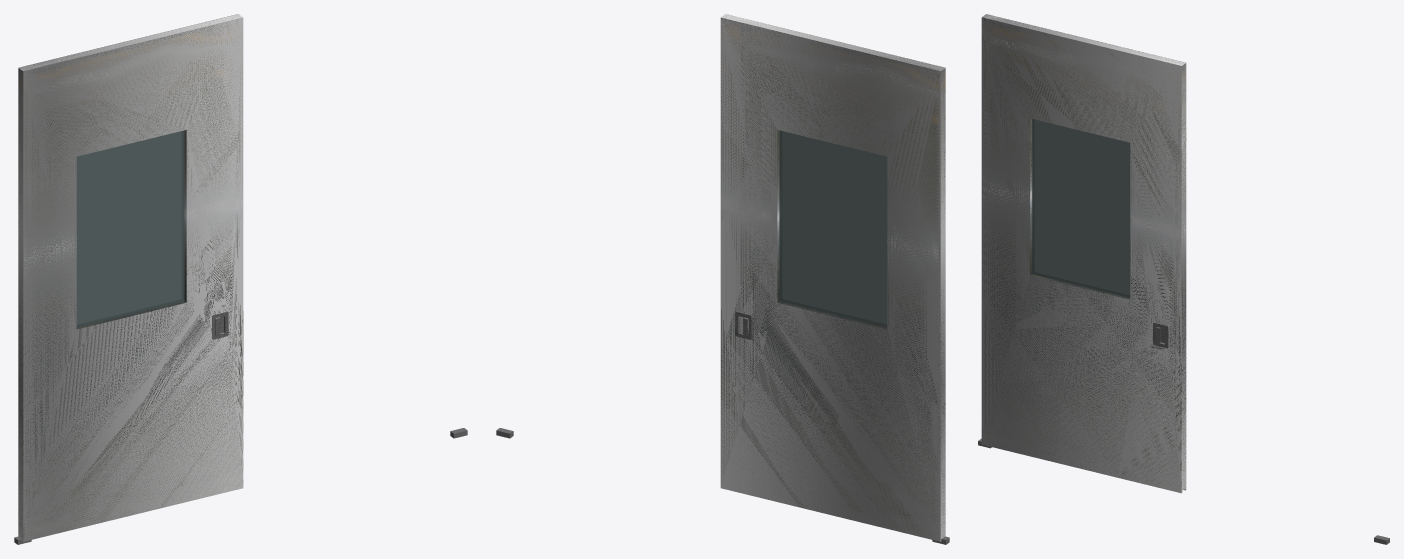
Rendered from Saino+63000+Flush+Stainless+Steel+Sliding+Service+Door.dae.
The picture shows the model from 3 angles, left to right: view 1: azimuth 30°, elevation 25°; view 2: azimuth 150°, elevation 25°; view 3: azimuth 330°, elevation 25°; orthographic projection. The views are drawn at different scales.
Parts seen in each view (by area): view 1: Component_10 (×5); view 2: Component_10 (×5); view 3: Component_10 (×5).
Part boxes in pixels (x1,y1,x2,y2): Component_10 (×5): [18, 14, 243, 541]; Component_10 (×5): [720, 14, 945, 541]; Component_10 (×5): [981, 14, 1186, 493].
Size of the model in its own units: 98 by 2.32 by 98.47.
Materials: 7 (5 with a texture image).
